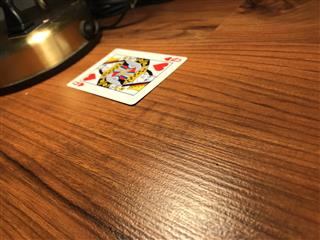QueenOfHearts: (66, 47, 187, 105)
